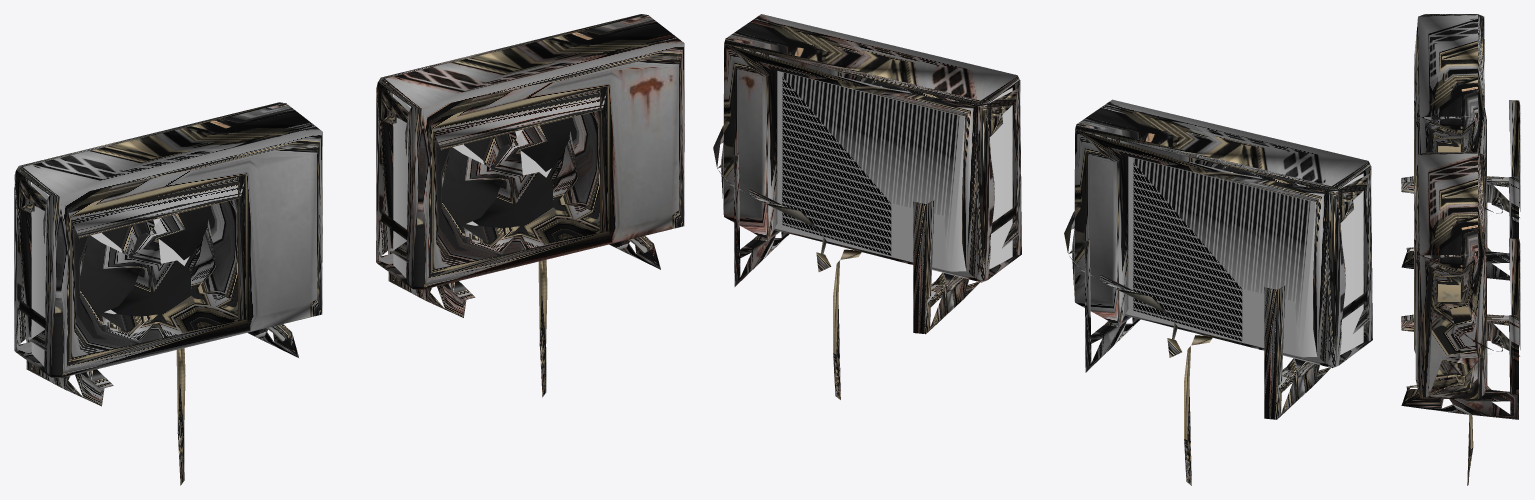
File: exterior_aircon_unit.gltf
3 renders of one model, left to right at view 1: azimuth 30°, elevation 25°; view 2: azimuth 150°, elevation 25°; view 3: azimuth 270°, elevation 25°, orthographic. The views are drawn at different scales.
Visible parts, largest first — view 1: exterior_aircon_unit_rusted, exterior_aircon_unit; view 2: exterior_aircon_unit, exterior_aircon_unit_rusted; view 3: exterior_aircon_unit_rusted, exterior_aircon_unit.
Part boxes in pixels (x1,y1,x2,y2): exterior_aircon_unit_rusted: (376, 14, 684, 397); exterior_aircon_unit: (14, 102, 322, 485); exterior_aircon_unit: (1064, 99, 1372, 485); exterior_aircon_unit_rusted: (713, 14, 1021, 399); exterior_aircon_unit_rusted: (1401, 152, 1520, 485); exterior_aircon_unit: (1401, 14, 1520, 280).
Size of the model in its own units: 1.78 by 0.9265 by 0.3637.
Materials: 4 (4 with a texture image).
